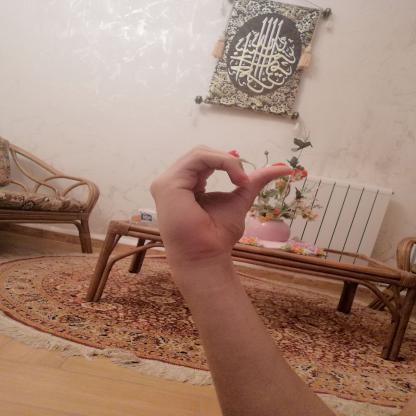WAW: (138, 136, 309, 273)
